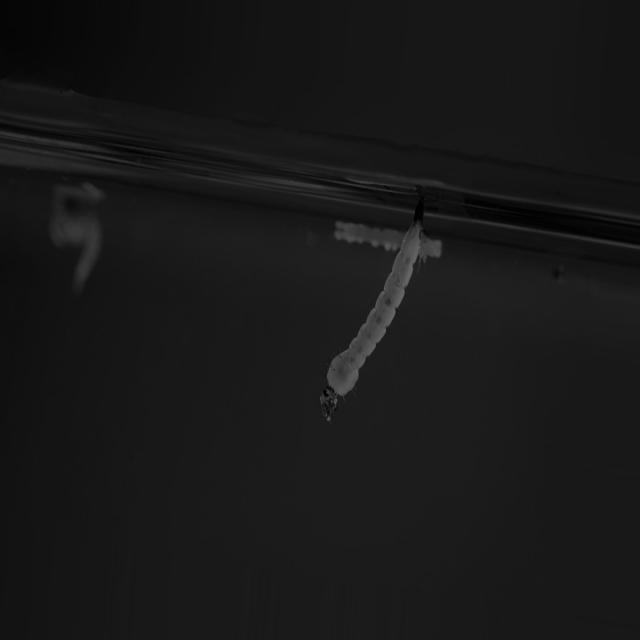larvas: (315, 195, 443, 433), (49, 201, 101, 296), (336, 222, 399, 249)
